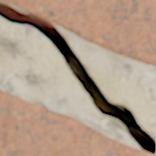brick: (1, 0, 155, 67), (0, 90, 151, 155)
crack: (0, 0, 155, 155)
